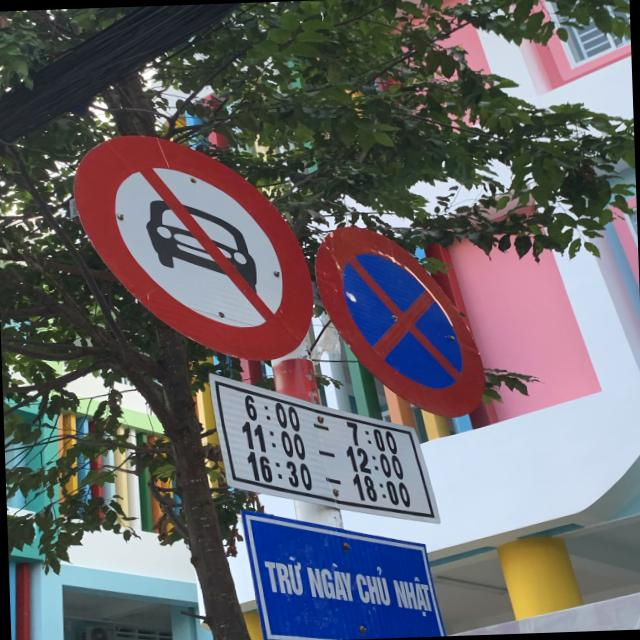Cam_Dung_Va_Dau_Xe: (314, 218, 492, 420)
Cam_O_To: (70, 126, 316, 368)
